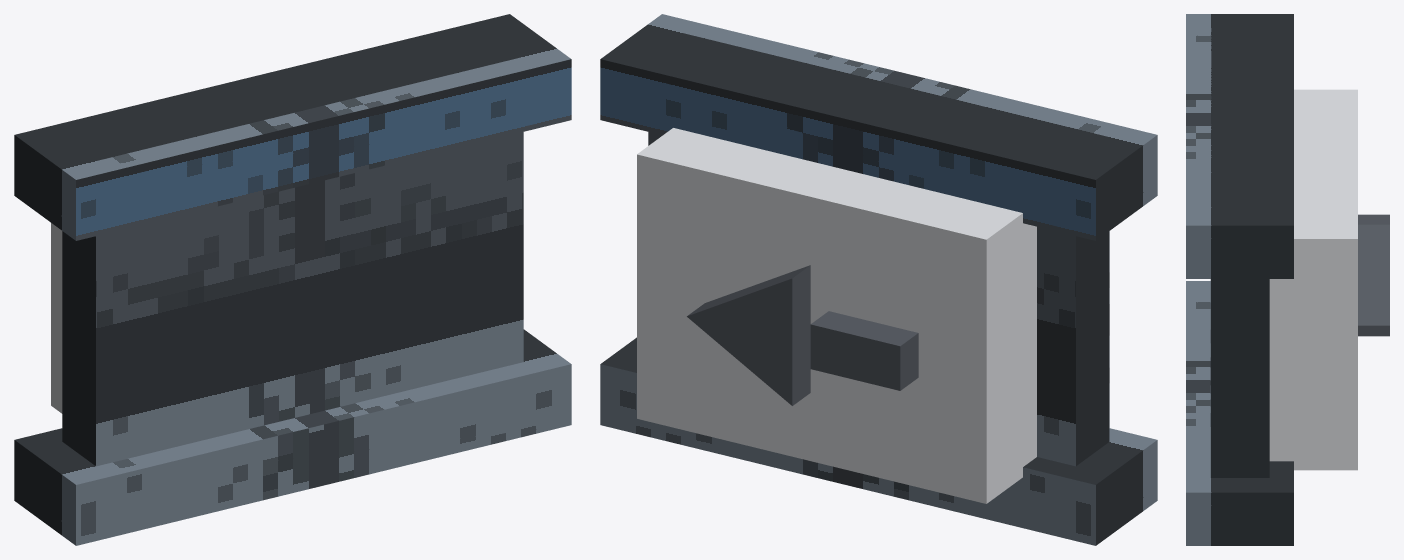
File: nav_chevron.glb
The picture shows the model from 3 angles, left to right: view 1: azimuth 30°, elevation 25°; view 2: azimuth 150°, elevation 25°; view 3: azimuth 270°, elevation 25°; orthographic projection. The views are drawn at different scales.
Parts seen in each view (by area): view 1: nav_chevron; view 2: nav_chevron; view 3: nav_chevron.
Part boxes in pixels (bbox=[...]): nav_chevron: bbox=[14, 14, 571, 545]; nav_chevron: bbox=[600, 14, 1157, 545]; nav_chevron: bbox=[1186, 14, 1389, 545].
Bounding box in the file's own units: 0.51 × 0.36 × 0.2075.
6 materials, 3 textured.
